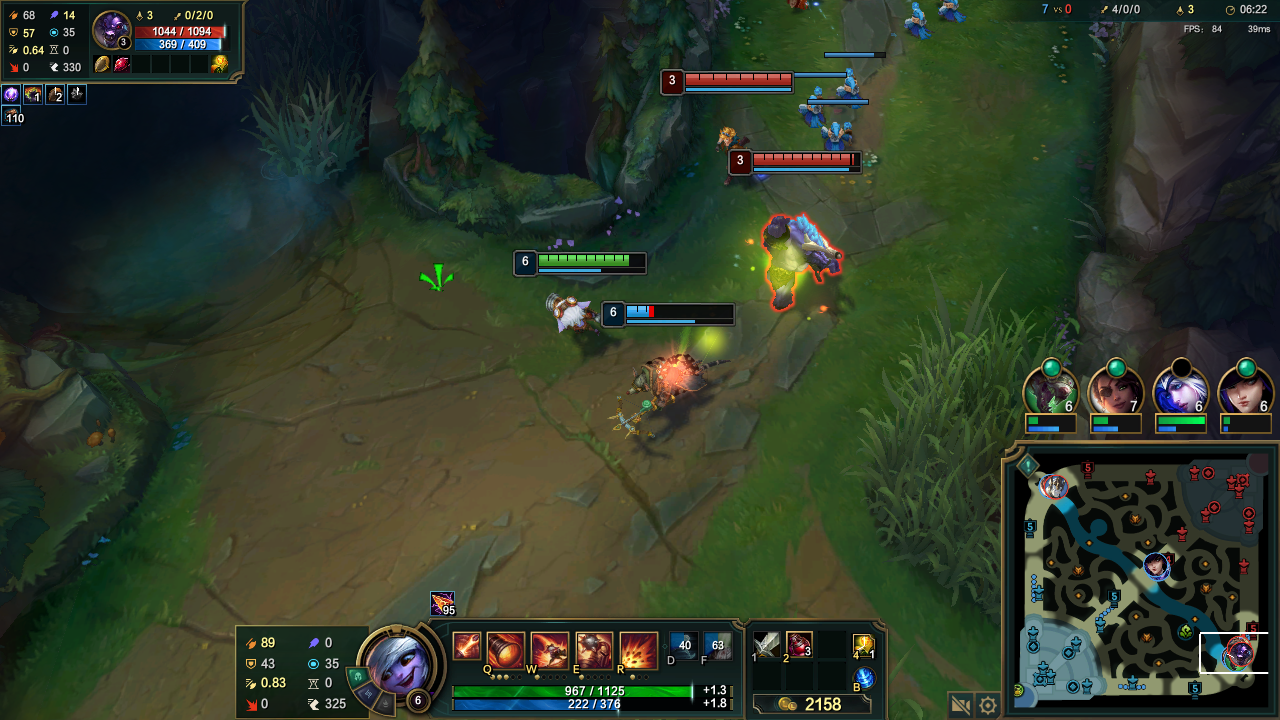DFYX: (746, 149, 859, 180), (679, 69, 790, 97)
WFXB: (816, 119, 863, 158), (832, 66, 868, 107), (900, 4, 934, 43), (800, 87, 830, 126), (937, 1, 973, 24)
Yita: (1184, 676, 1206, 700)
